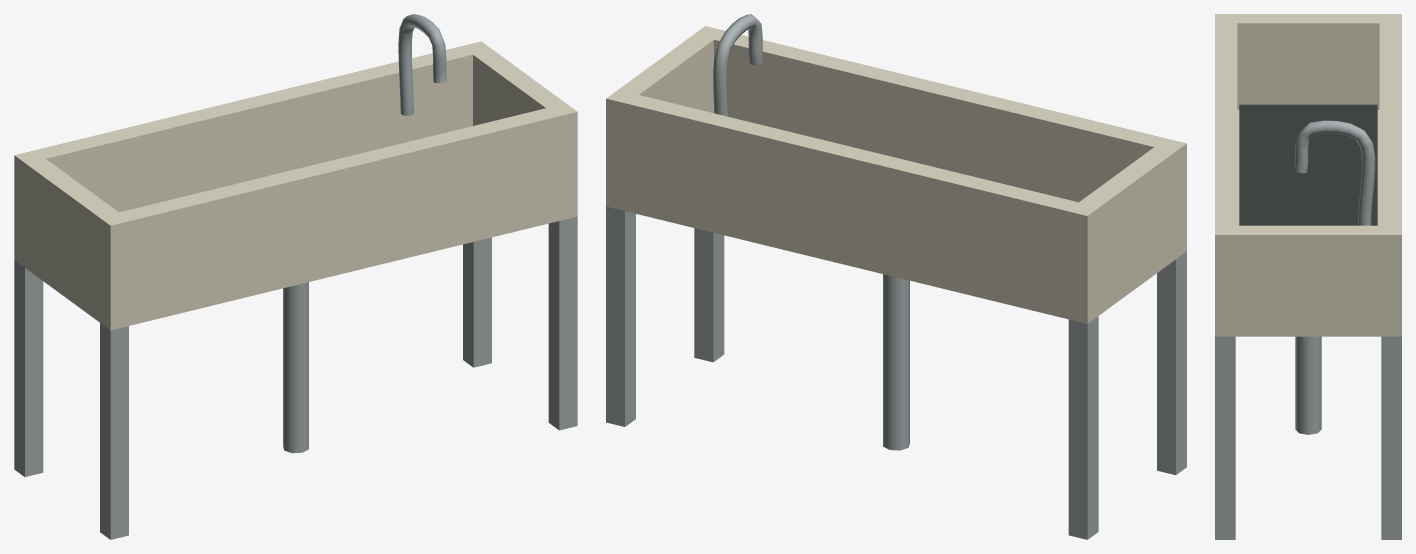
File: roadside-survival-stops-restroom-sink-trough-cba8cb5d__23550.glb
3 views of the same model, side by side, from view 1: azimuth 30°, elevation 25°; view 2: azimuth 150°, elevation 25°; view 3: azimuth 270°, elevation 25° (orthographic). The views are drawn at different scales.
Visible parts, largest first — view 1: restroom-sink-trough; view 2: restroom-sink-trough; view 3: restroom-sink-trough.
Boxes of the visible parts, x1,y1,x2,y2 form: restroom-sink-trough: [14, 14, 577, 539]; restroom-sink-trough: [606, 14, 1186, 539]; restroom-sink-trough: [1215, 14, 1401, 539].
Size of the model in its own units: 1.4 by 1.11 by 0.4999.
